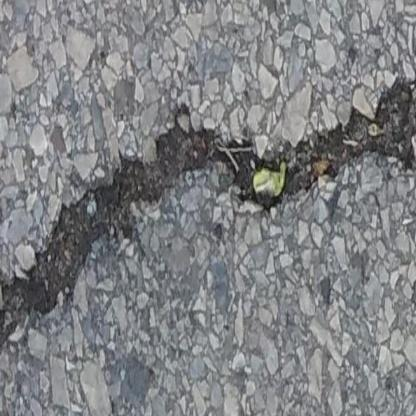Cracks: (0, 68, 416, 354)
